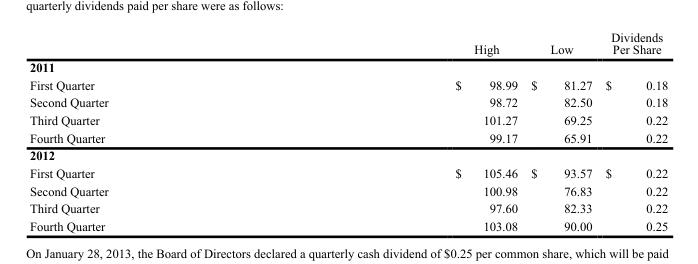table: (28, 29, 667, 232)
table column: (28, 29, 281, 232), (281, 29, 523, 232), (523, 29, 598, 232), (598, 29, 667, 232)
table column header: (28, 29, 667, 57)
table projected row header: (28, 57, 667, 75), (28, 146, 667, 163)
table row: (28, 29, 667, 57), (28, 57, 667, 75), (28, 75, 667, 93), (28, 110, 667, 128), (28, 128, 667, 146), (28, 163, 667, 181), (28, 181, 667, 199), (28, 93, 667, 110), (28, 146, 667, 163), (28, 199, 667, 216), (28, 216, 667, 232)
